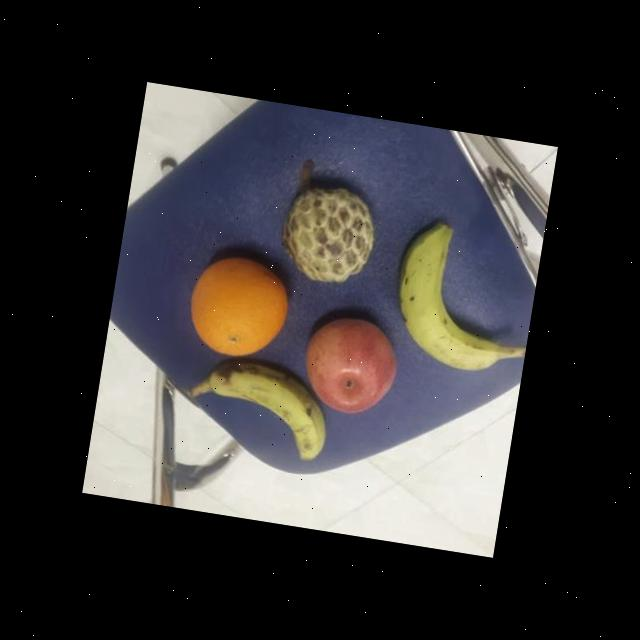Sakya fruit: (272, 178, 384, 292)
apple: (295, 312, 405, 422)
banana: (384, 217, 520, 380), (197, 356, 338, 470)
orange: (180, 249, 296, 368)
